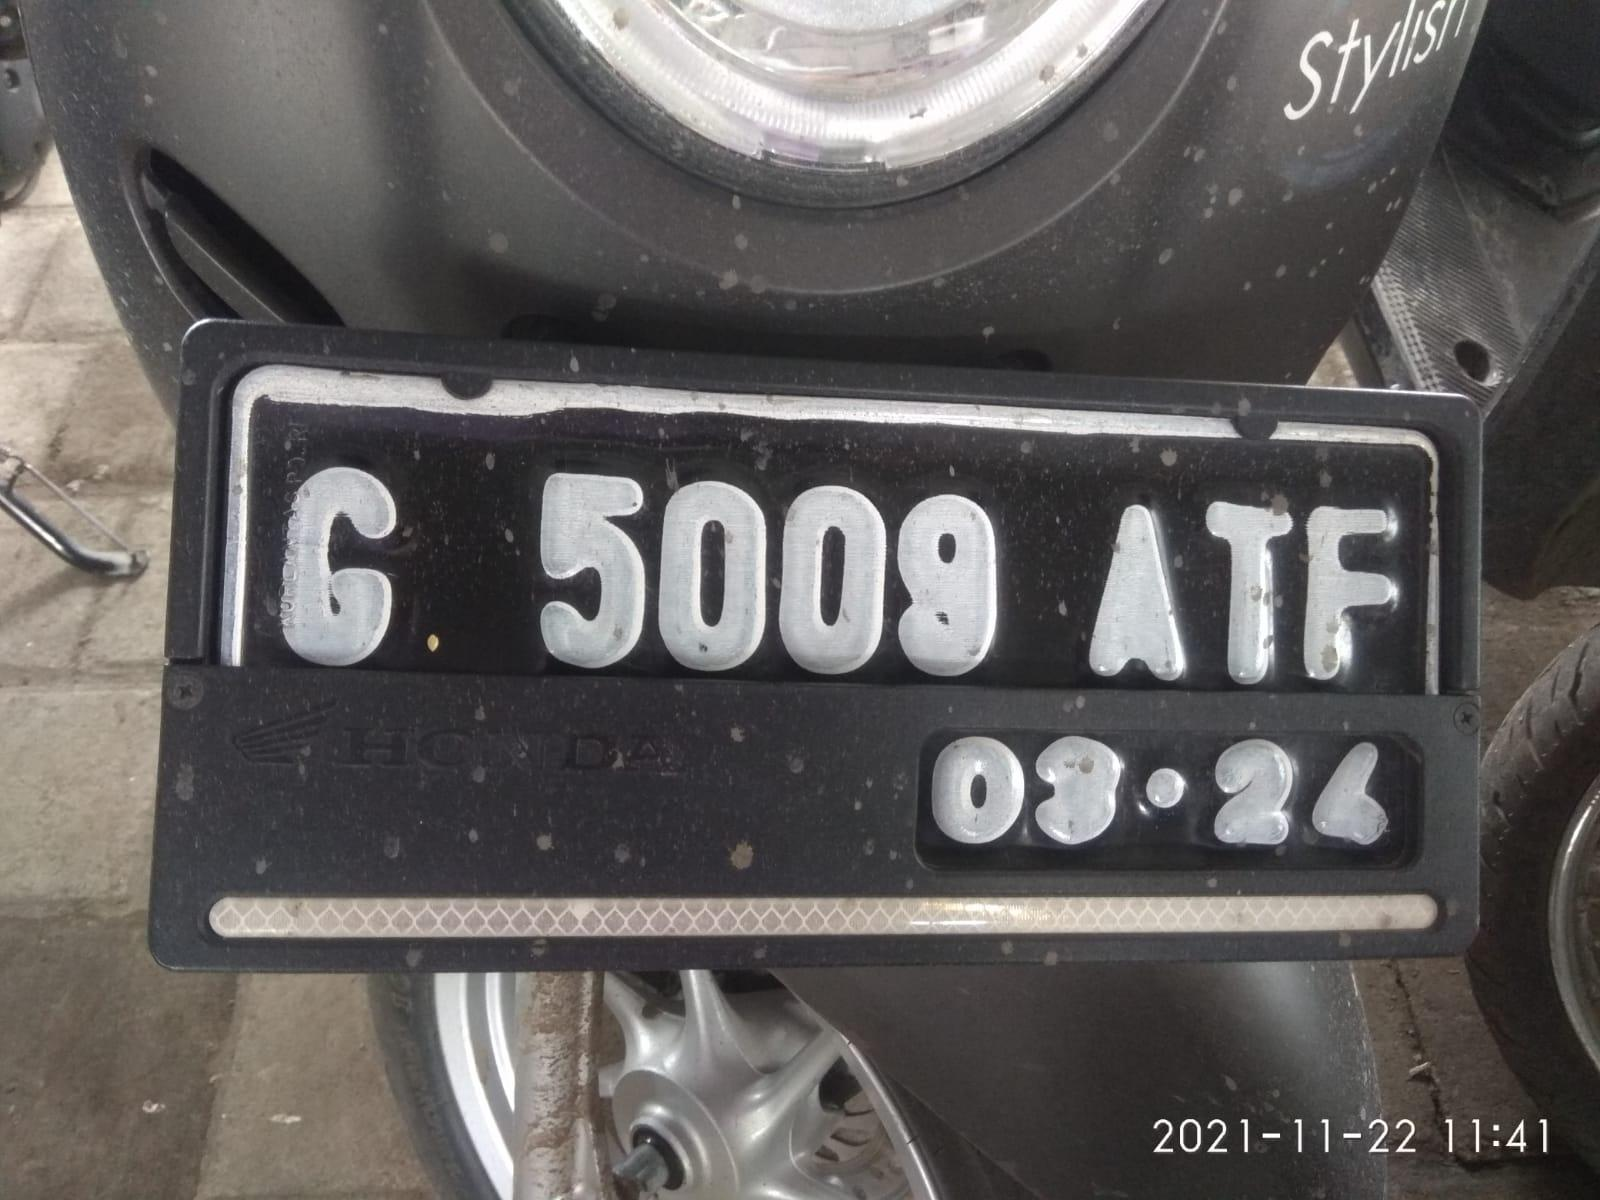plat: (150, 321, 1478, 972)
